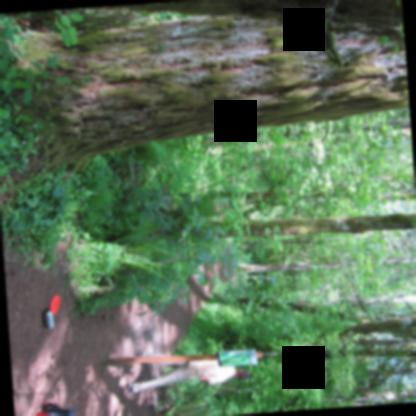backpack: (34, 404, 74, 416)
